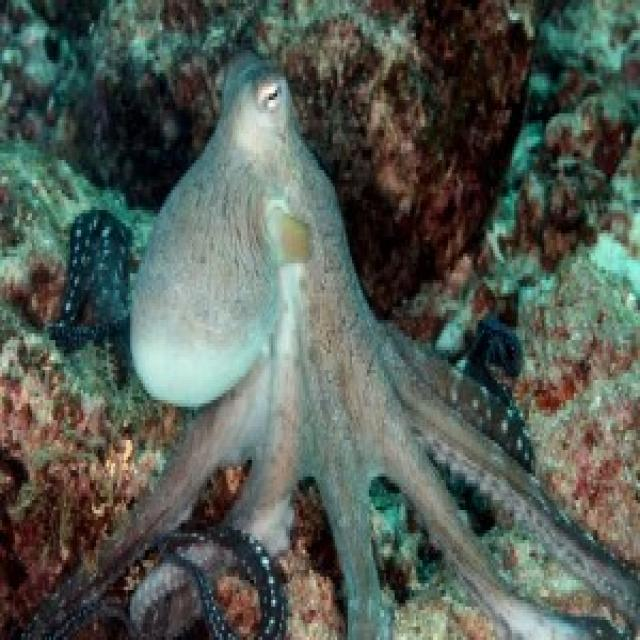Octo: (51, 25, 638, 640)
